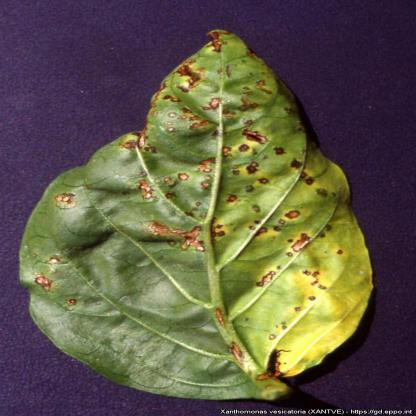tomato septoria leaf spot: (23, 14, 370, 399)
